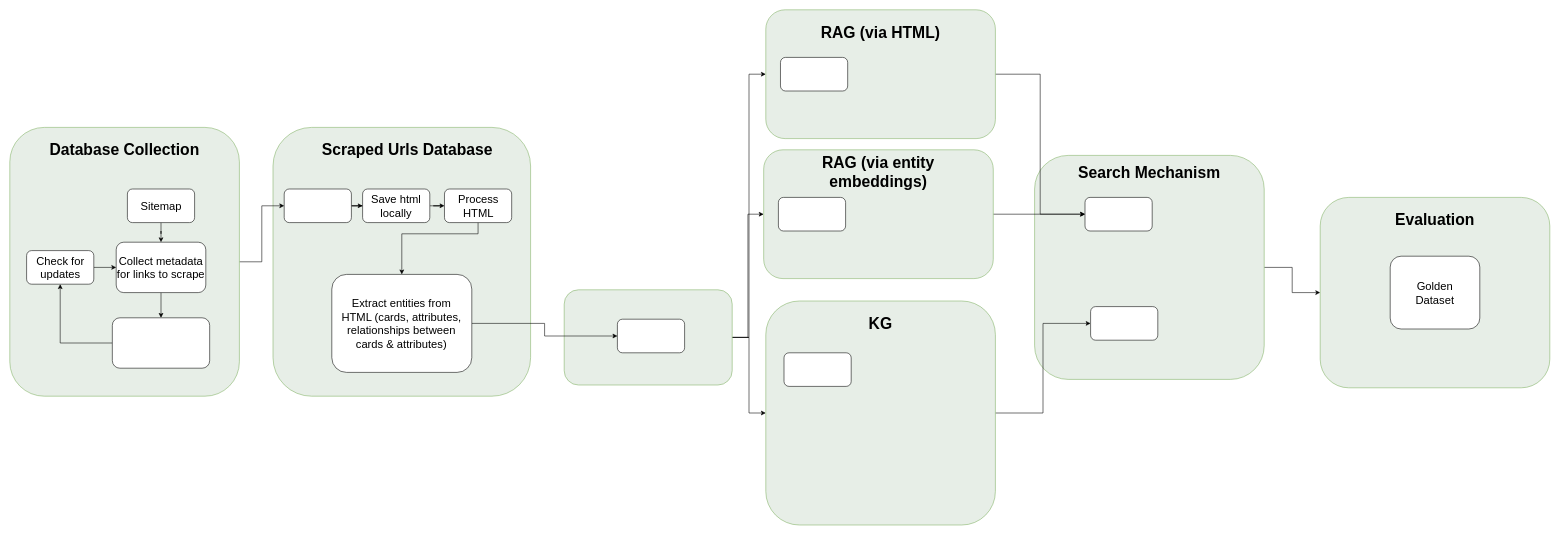
Some shapes in this 1560 by 535 pixel diagram are drawn without their labels. Here are the shapes that lost their labels. From the top down, the centre of each, then its label:
At point 317,205: "Async Link Scraper".
At point 161,342: "Save sitemap metadata (links + last update)".
At point 651,336: "Turn Into Embeddings".
